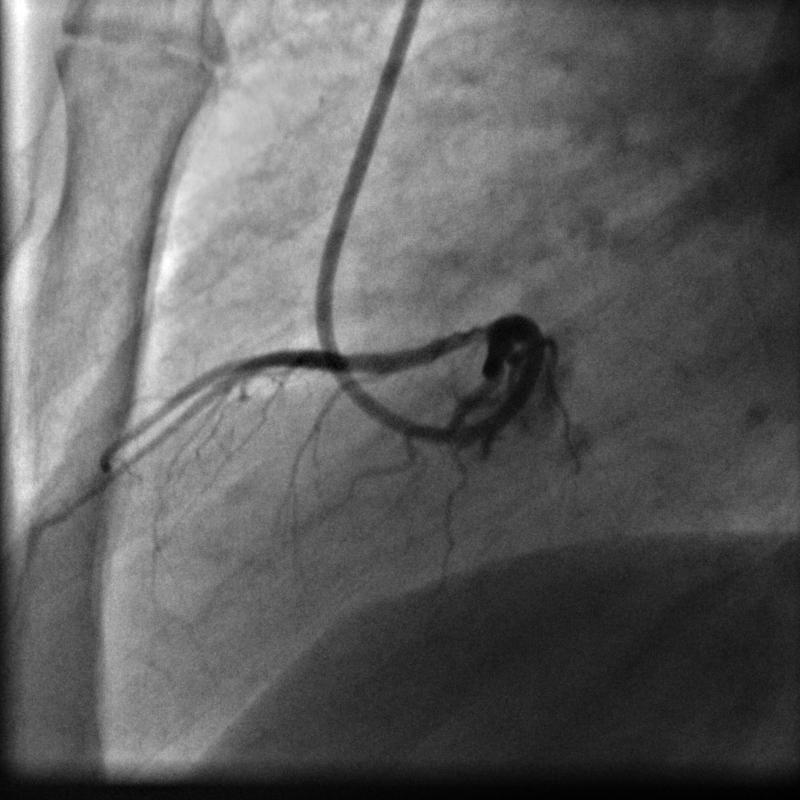Stenosis: (340, 349, 359, 374)
